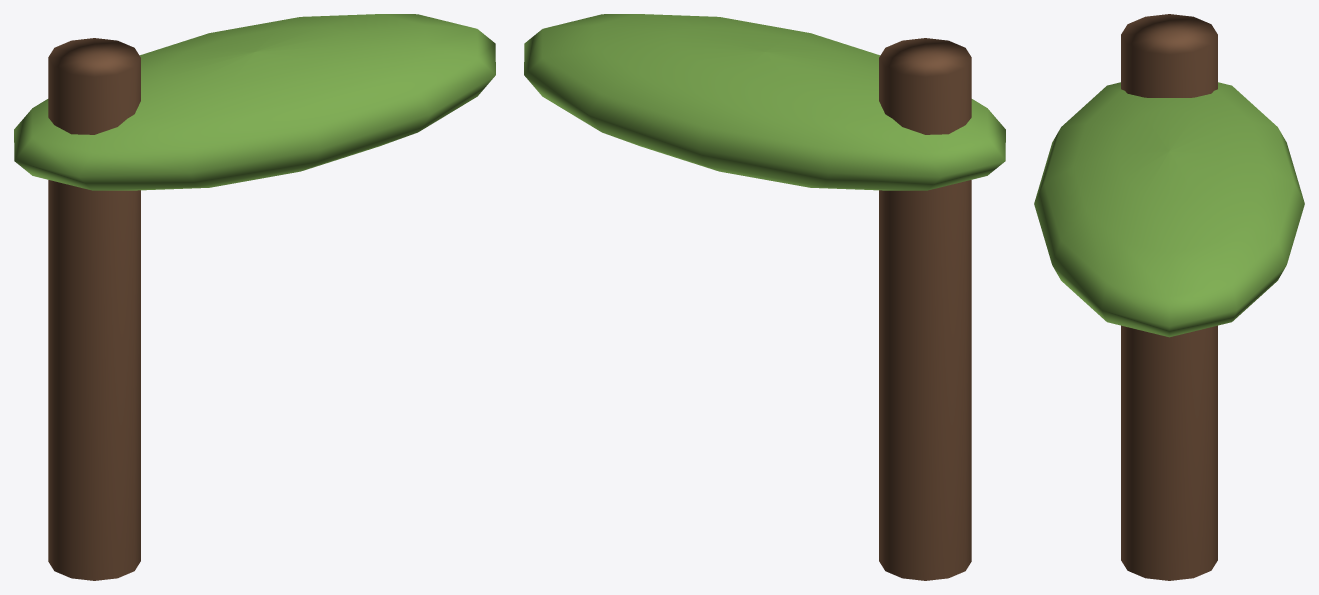
File: seedling.glb
3 views of the same model, side by side, from view 1: azimuth 30°, elevation 25°; view 2: azimuth 150°, elevation 25°; view 3: azimuth 270°, elevation 25° (orthographic). The views are drawn at different scales.
Visible parts, largest first — view 1: leaf, stem; view 2: leaf, stem; view 3: leaf, stem.
Boxes of the visible parts, left/top/right/bottom form: leaf: left=14, top=14, right=495, bottom=190; stem: left=48, top=38, right=140, bottom=580; leaf: left=524, top=14, right=1005, bottom=190; stem: left=879, top=38, right=971, bottom=580; leaf: left=1034, top=82, right=1304, bottom=337; stem: left=1121, top=14, right=1217, bottom=580.
Size of the model in its own units: 0.3 by 0.3 by 0.14.
